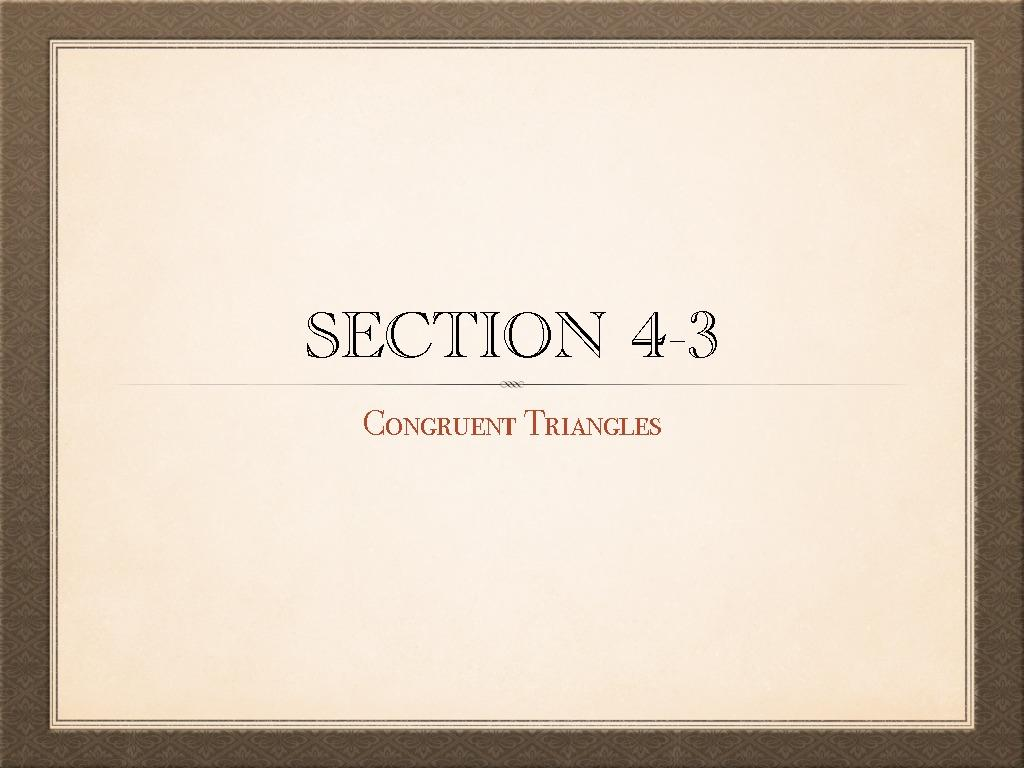subtitle: (356, 397, 704, 462)
title: (293, 297, 749, 390)
